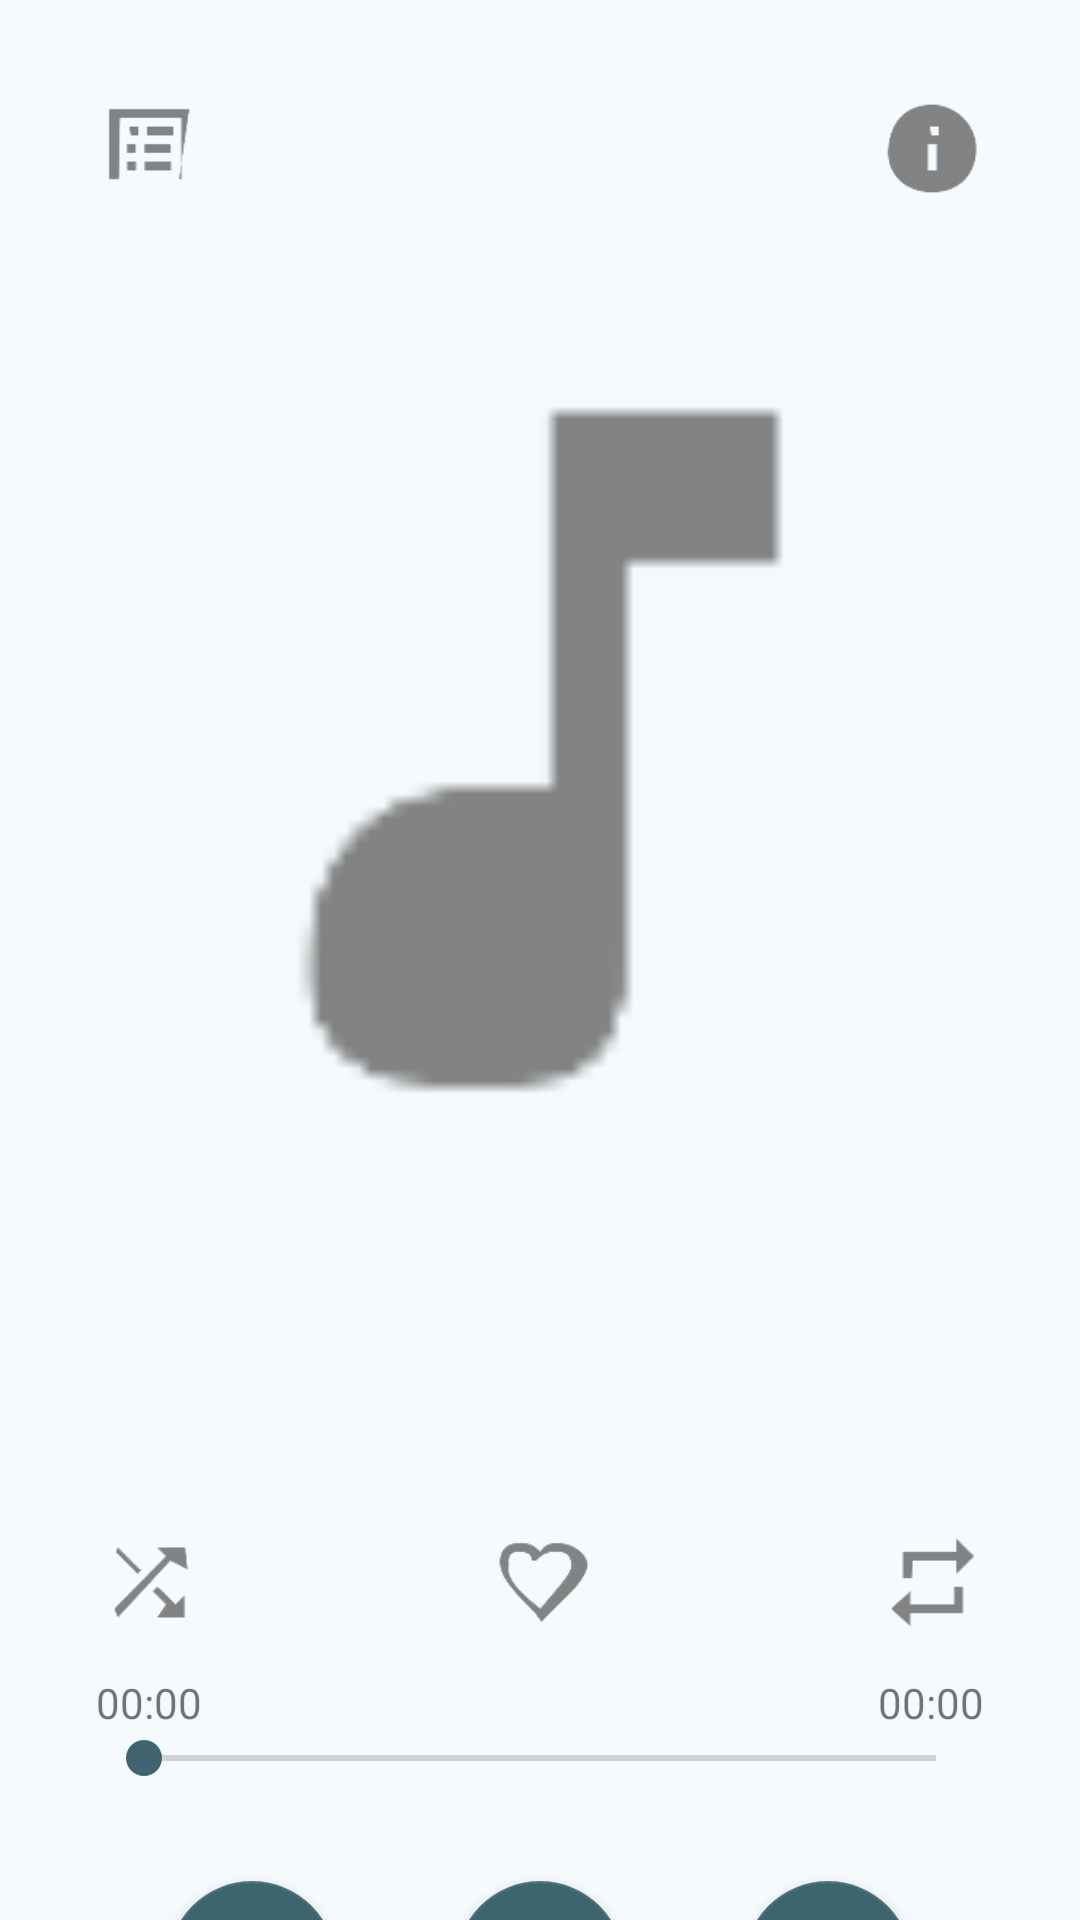

Icons on this 1080*1920 Android screen, each with its box as bbox=(x1, y1, x2, y2):
Favorite button: bbox=(499, 1543, 588, 1622)
Get track info button: bbox=(887, 104, 977, 193)
Repeat button: bbox=(892, 1539, 974, 1626)
Show current playlist button: bbox=(109, 109, 190, 180)
Shuffle button: bbox=(114, 1547, 188, 1618)
